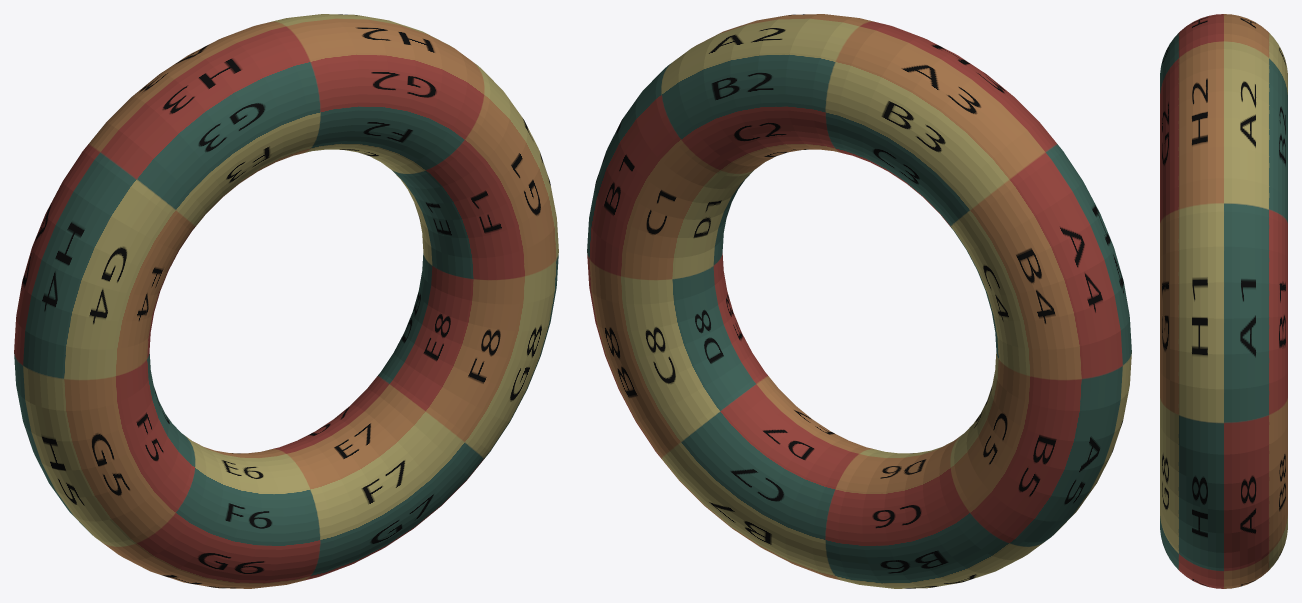
File: texture_torus_R8_r9.glb
The picture shows the model from 3 angles, left to right: view 1: azimuth 30°, elevation 25°; view 2: azimuth 150°, elevation 25°; view 3: azimuth 270°, elevation 25°; orthographic projection. The views are drawn at different scales.
Parts seen in each view (by area): view 1: world; view 2: world; view 3: world.
Boxes of the visible parts, <box> form: world: <box>14,14,558,588</box>; world: <box>587,14,1131,588</box>; world: <box>1160,14,1287,588</box>.
Size of the model in its own units: 19.73 by 19.69 by 4.39.
1 material, 1 textured.
